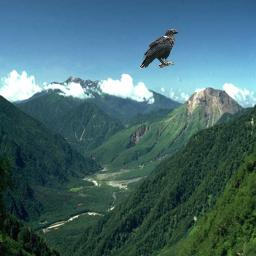Crow: (139, 29, 178, 69)
